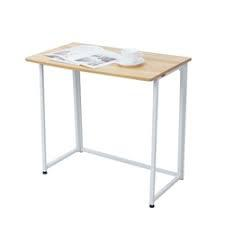desk: (20, 29, 196, 206)
